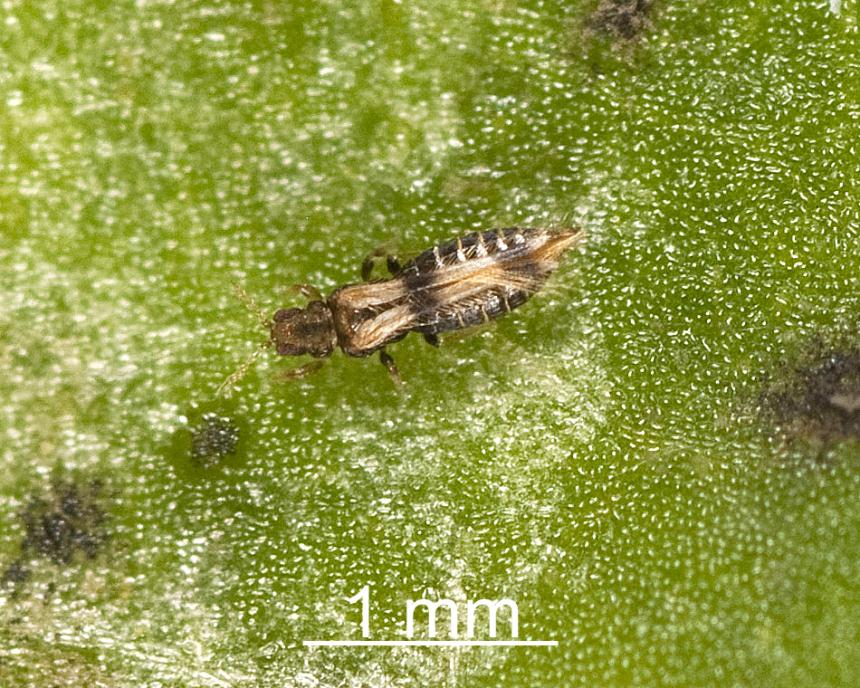Thrips: (240, 217, 577, 381)
